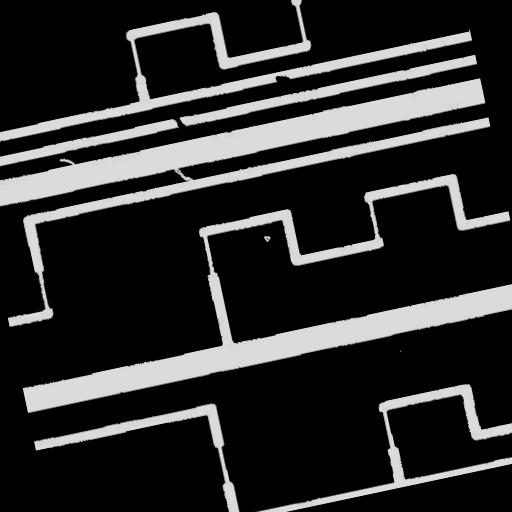mousebite: (49, 146, 83, 176)
open: (164, 156, 202, 192)
pin-hole: (254, 225, 280, 251)
short: (161, 102, 194, 140)
spur: (266, 64, 298, 94)
